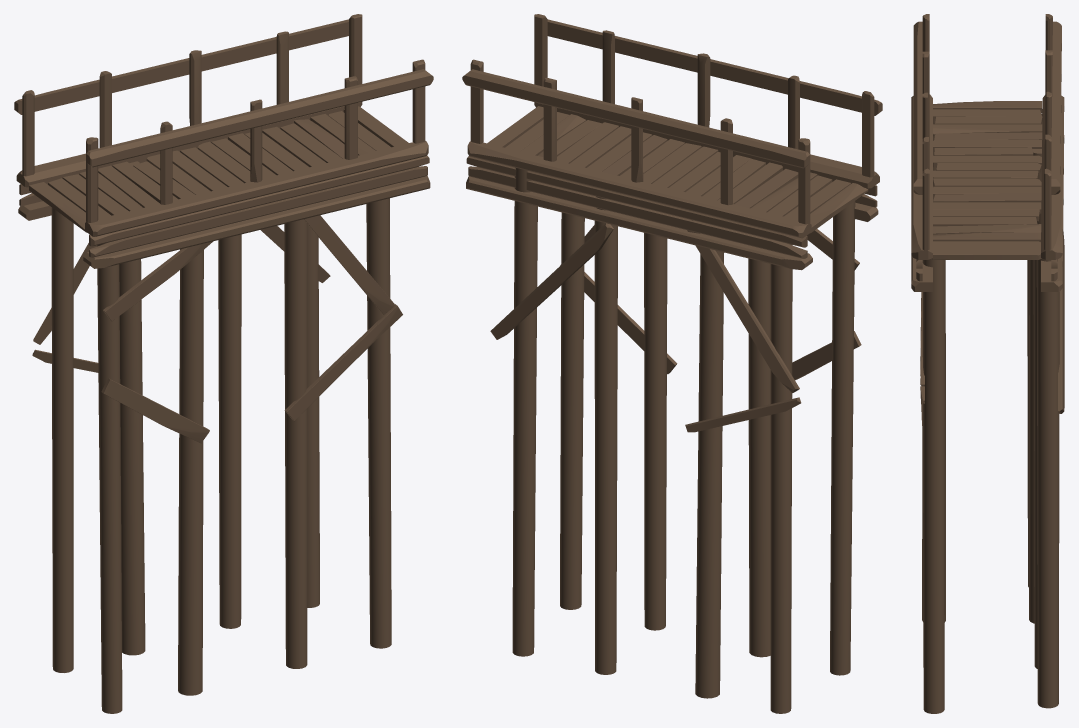
Rendered from Bridge-M04A.fbx.
3 views of the same model, side by side, from view 1: azimuth 30°, elevation 25°; view 2: azimuth 150°, elevation 25°; view 3: azimuth 270°, elevation 25° (orthographic). The views are drawn at different scales.
Parts seen in each view (by area): view 1: Bridge-M04A; view 2: Bridge-M04A; view 3: Bridge-M04A.
Part boxes in pixels (<box>): Bridge-M04A: <box>14,14,433,713</box>; Bridge-M04A: <box>462,14,882,713</box>; Bridge-M04A: <box>911,14,1064,713</box>.
Bounding box in the file's own units: 566 × 915 × 228.
